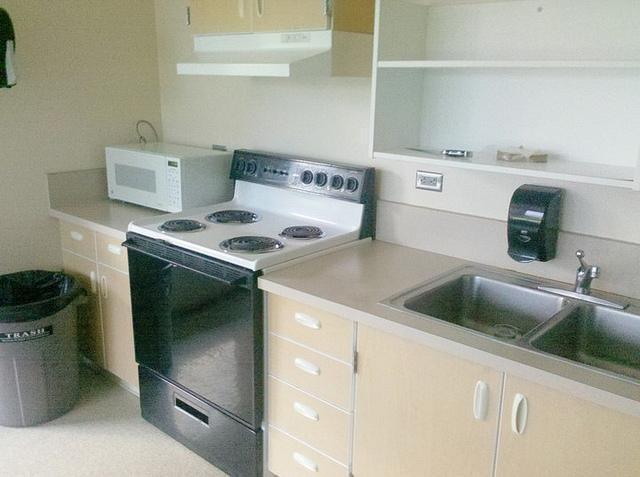Bote de Basura: (0, 267, 84, 426)
Lavaplatos: (391, 256, 639, 381)
